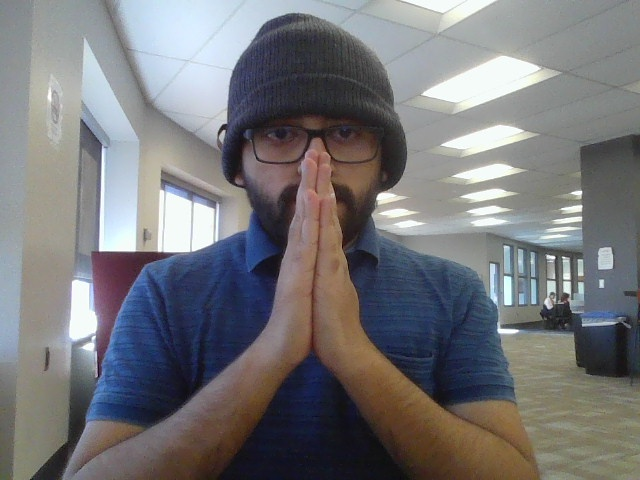start: (270, 147, 366, 376)
